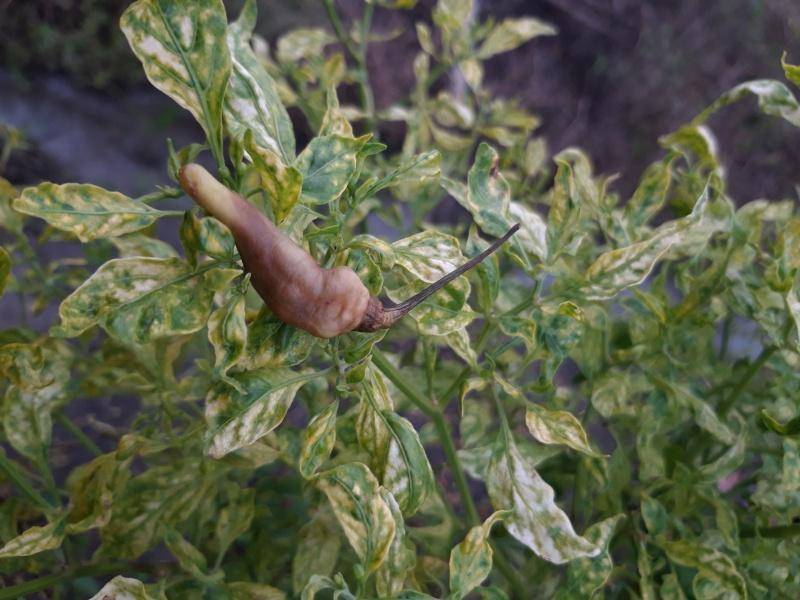lalat_buah: (176, 164, 372, 339)
